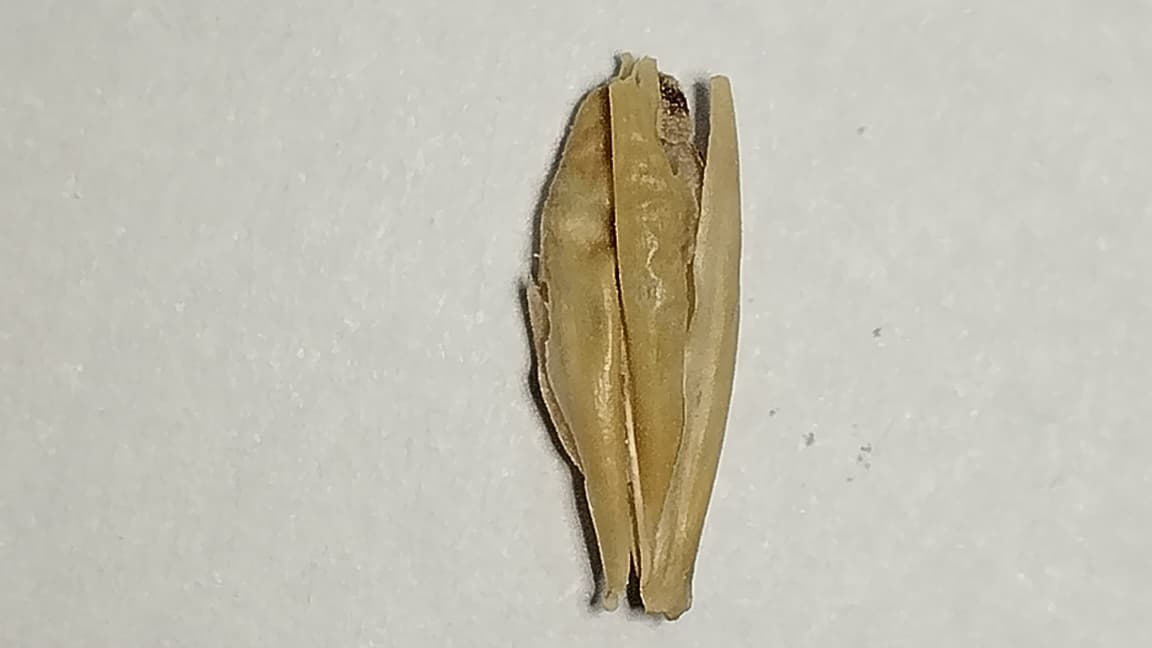damage: (525, 53, 741, 619)
shriveledseed: (559, 150, 719, 396)
staindamage: (656, 70, 708, 184)
